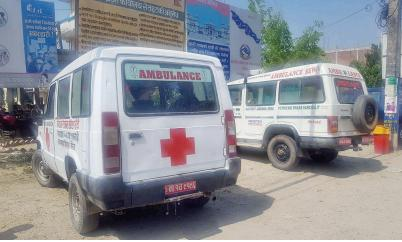ambulance: (26, 42, 244, 239), (216, 61, 377, 171)
